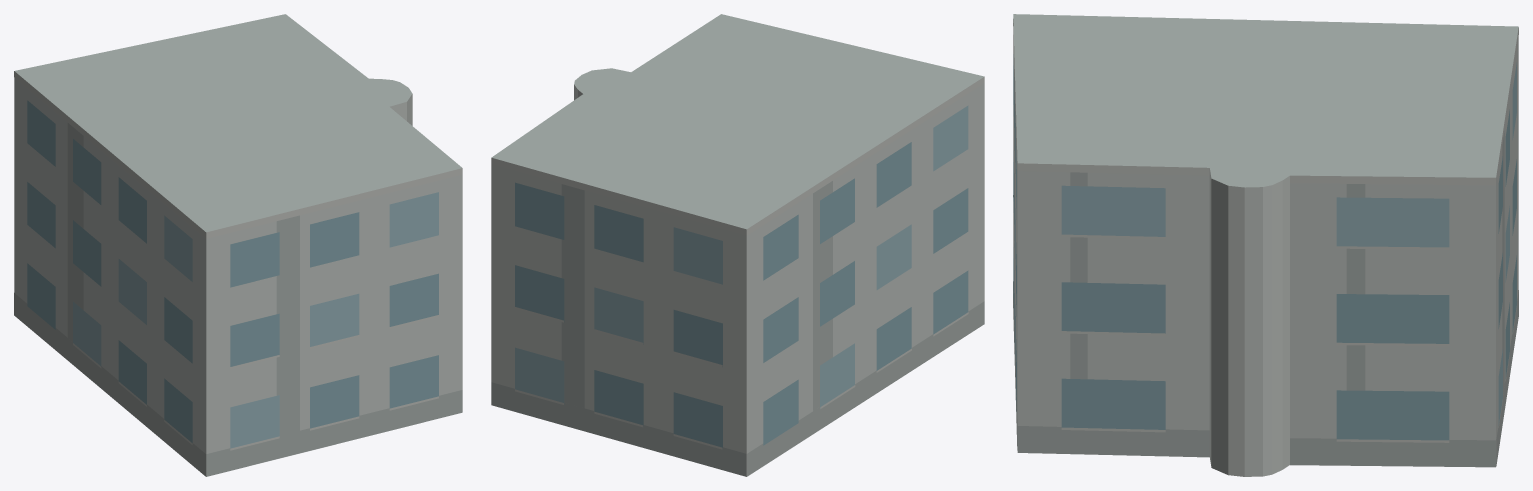
The model's file is survey-upis-32878622.glb.
The picture shows the model from 3 angles, left to right: view 1: azimuth 30°, elevation 25°; view 2: azimuth 150°, elevation 25°; view 3: azimuth 270°, elevation 25°; orthographic projection. The views are drawn at different scales.
Parts seen in each view (by area): view 1: survey-upis-32878622.tmp; view 2: survey-upis-32878622.tmp; view 3: survey-upis-32878622.tmp.
Boxes of the visible parts, left/top/right/bottom form: survey-upis-32878622.tmp: left=14, top=14, right=462, bottom=476; survey-upis-32878622.tmp: left=491, top=14, right=984, bottom=476; survey-upis-32878622.tmp: left=1013, top=14, right=1518, bottom=476.
Size of the model in its own units: 11.76 by 9.15 by 14.49.
